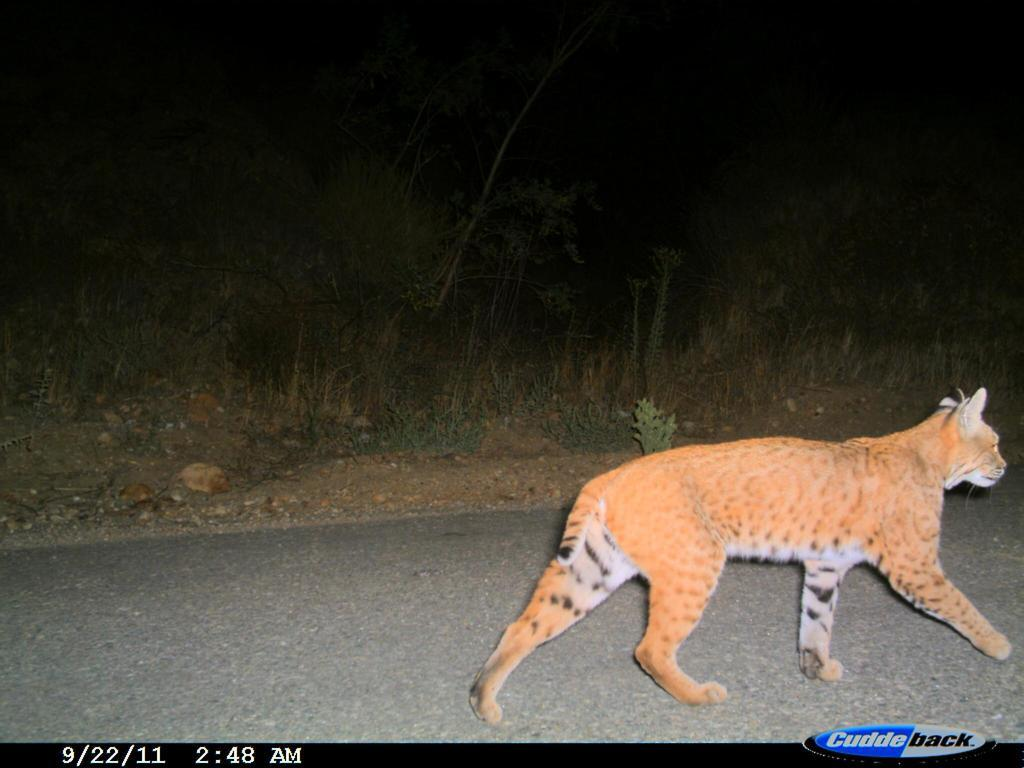bobcat: (466, 390, 1022, 730)
